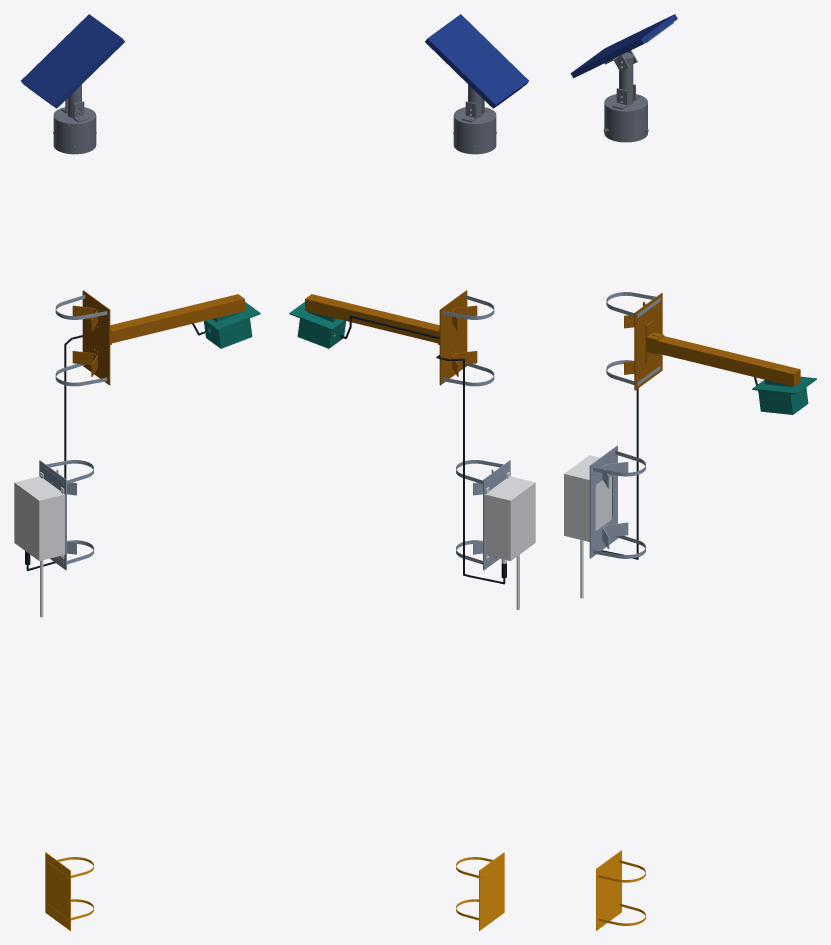
3 views of the same model, side by side, from view 1: azimuth 30°, elevation 25°; view 2: azimuth 150°, elevation 25°; view 3: azimuth 330°, elevation 25° (orthographic). The views are drawn at different scales.
Visible parts, largest first — view 1: Sensor arm with saddle, Solar panel, 6 W, FieldNode enclosure, ports, antenna, Panel pole-top mount, Band clamps (4), enclosure saddle, Public notice plate, Sensor head housing and hood, Sensor cable, M12; view 2: Sensor arm with saddle, Solar panel, 6 W, FieldNode enclosure, ports, antenna, Panel pole-top mount, Band clamps (4), enclosure saddle, Public notice plate, Sensor head housing and hood, Sensor cable, M12; view 3: Sensor arm with saddle, Band clamps (4), enclosure saddle, FieldNode enclosure, ports, antenna, Panel pole-top mount, Public notice plate, Sensor head housing and hood, Solar panel, 6 W, Sensor cable, M12.
Boxes of the visible parts, x1=… form: Sensor arm with saddle: x1=72, y1=290, x2=244, y2=385; Solar panel, 6 W: x1=21, y1=14, x2=124, y2=108; FieldNode enclosure, ports, antenna: x1=14, y1=472, x2=65, y2=617; Panel pole-top mount: x1=28, y1=84, x2=96, y2=154; Band clamps (4), enclosure saddle: x1=39, y1=295, x2=107, y2=570; Public notice plate: x1=45, y1=852, x2=93, y2=930; Sensor head housing and hood: x1=204, y1=302, x2=260, y2=348; Sensor cable, M12: x1=25, y1=323, x2=204, y2=570; Sensor arm with saddle: x1=305, y1=290, x2=477, y2=385; Solar panel, 6 W: x1=425, y1=14, x2=528, y2=108; FieldNode enclosure, ports, antenna: x1=484, y1=472, x2=535, y2=609; Panel pole-top mount: x1=453, y1=84, x2=521, y2=154; Band clamps (4), enclosure saddle: x1=442, y1=295, x2=510, y2=570; Public notice plate: x1=456, y1=852, x2=504, y2=930; Sensor head housing and hood: x1=289, y1=302, x2=345, y2=348; Sensor cable, M12: x1=340, y1=315, x2=506, y2=584; Sensor arm with saddle: x1=624, y1=293, x2=800, y2=390; Band clamps (4), enclosure saddle: x1=589, y1=292, x2=660, y2=558; FieldNode enclosure, ports, antenna: x1=564, y1=455, x2=611, y2=598; Panel pole-top mount: x1=589, y1=22, x2=673, y2=142; Public notice plate: x1=596, y1=850, x2=645, y2=930; Sensor head housing and hood: x1=752, y1=376, x2=816, y2=414; Solar panel, 6 W: x1=570, y1=14, x2=677, y2=78; Sensor cable, M12: x1=601, y1=377, x2=758, y2=559.
Bounding box in the file's own units: 0.7765 × 2.93 × 0.2.
